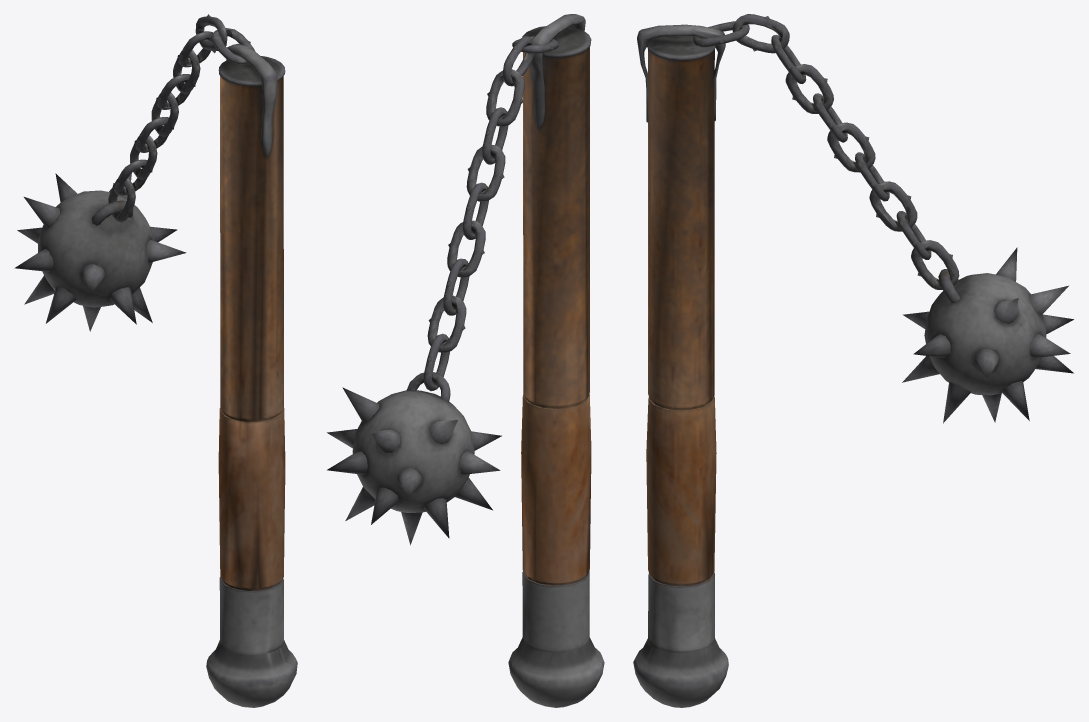
The model's file is flail.glb.
3 renders of one model, left to right at view 1: azimuth 30°, elevation 25°; view 2: azimuth 150°, elevation 25°; view 3: azimuth 270°, elevation 25°, orthographic. The views are drawn at different scales.
Parts seen in each view (by area): view 1: Flail; view 2: Flail; view 3: Flail.
Boxes of the visible parts, x1,y1,x2,y2 form: Flail: [14, 14, 297, 707]; Flail: [327, 14, 604, 707]; Flail: [633, 14, 1073, 707].
Bounding box in the file's own units: 0.2616 × 0.9998 × 0.5813.
1 material, 1 textured.
